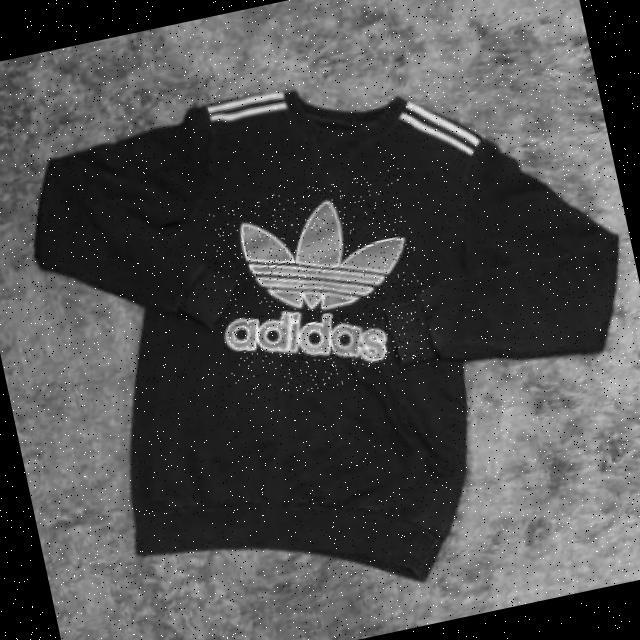Adidas: (196, 168, 440, 407)
